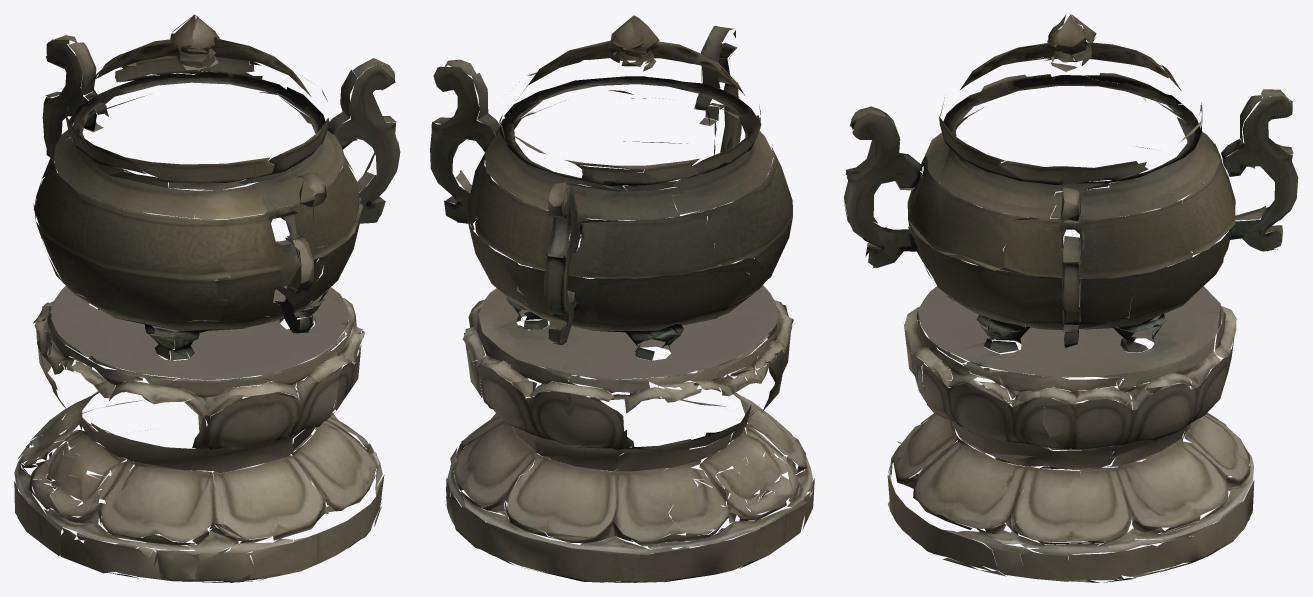
Rendered from bronzeCenser.glb.
3 views of the same model, side by side, from view 1: azimuth 30°, elevation 25°; view 2: azimuth 150°, elevation 25°; view 3: azimuth 270°, elevation 25° (orthographic).
Visible parts, largest first — view 1: Prop_bronzeCenser; view 2: Prop_bronzeCenser; view 3: Prop_bronzeCenser.
Part boxes in pixels (x1=…): Prop_bronzeCenser: x1=14, y1=14, x2=400, y2=582; Prop_bronzeCenser: x1=430, y1=15, x2=814, y2=582; Prop_bronzeCenser: x1=844, y1=14, x2=1298, y2=582.
Size of the model in its own units: 1.35 by 1.8 by 1.51.
Materials: 1 (1 with a texture image).
